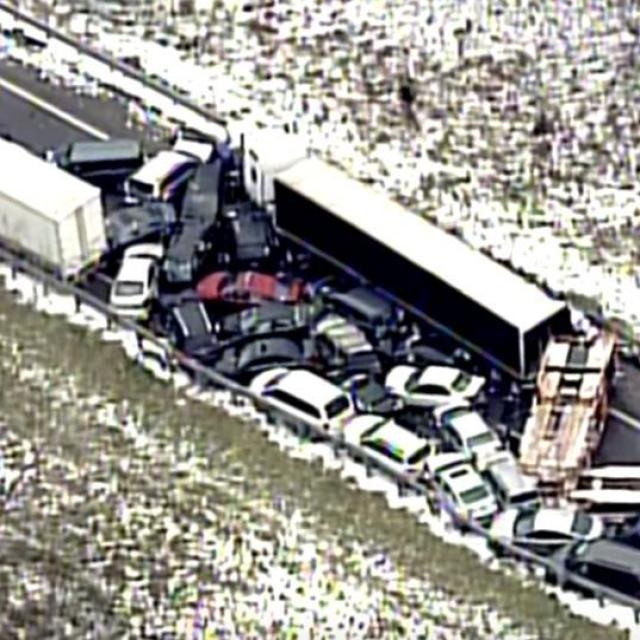traffic_incident: (104, 100, 638, 564)
